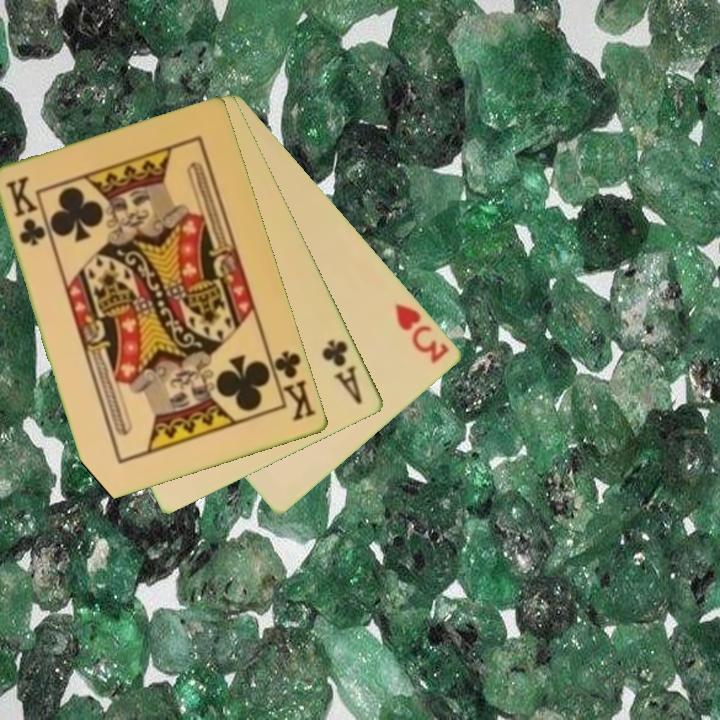3h: (391, 300, 452, 367)
Ac: (319, 336, 366, 408)
Kc: (266, 347, 319, 425), (2, 173, 49, 250)
